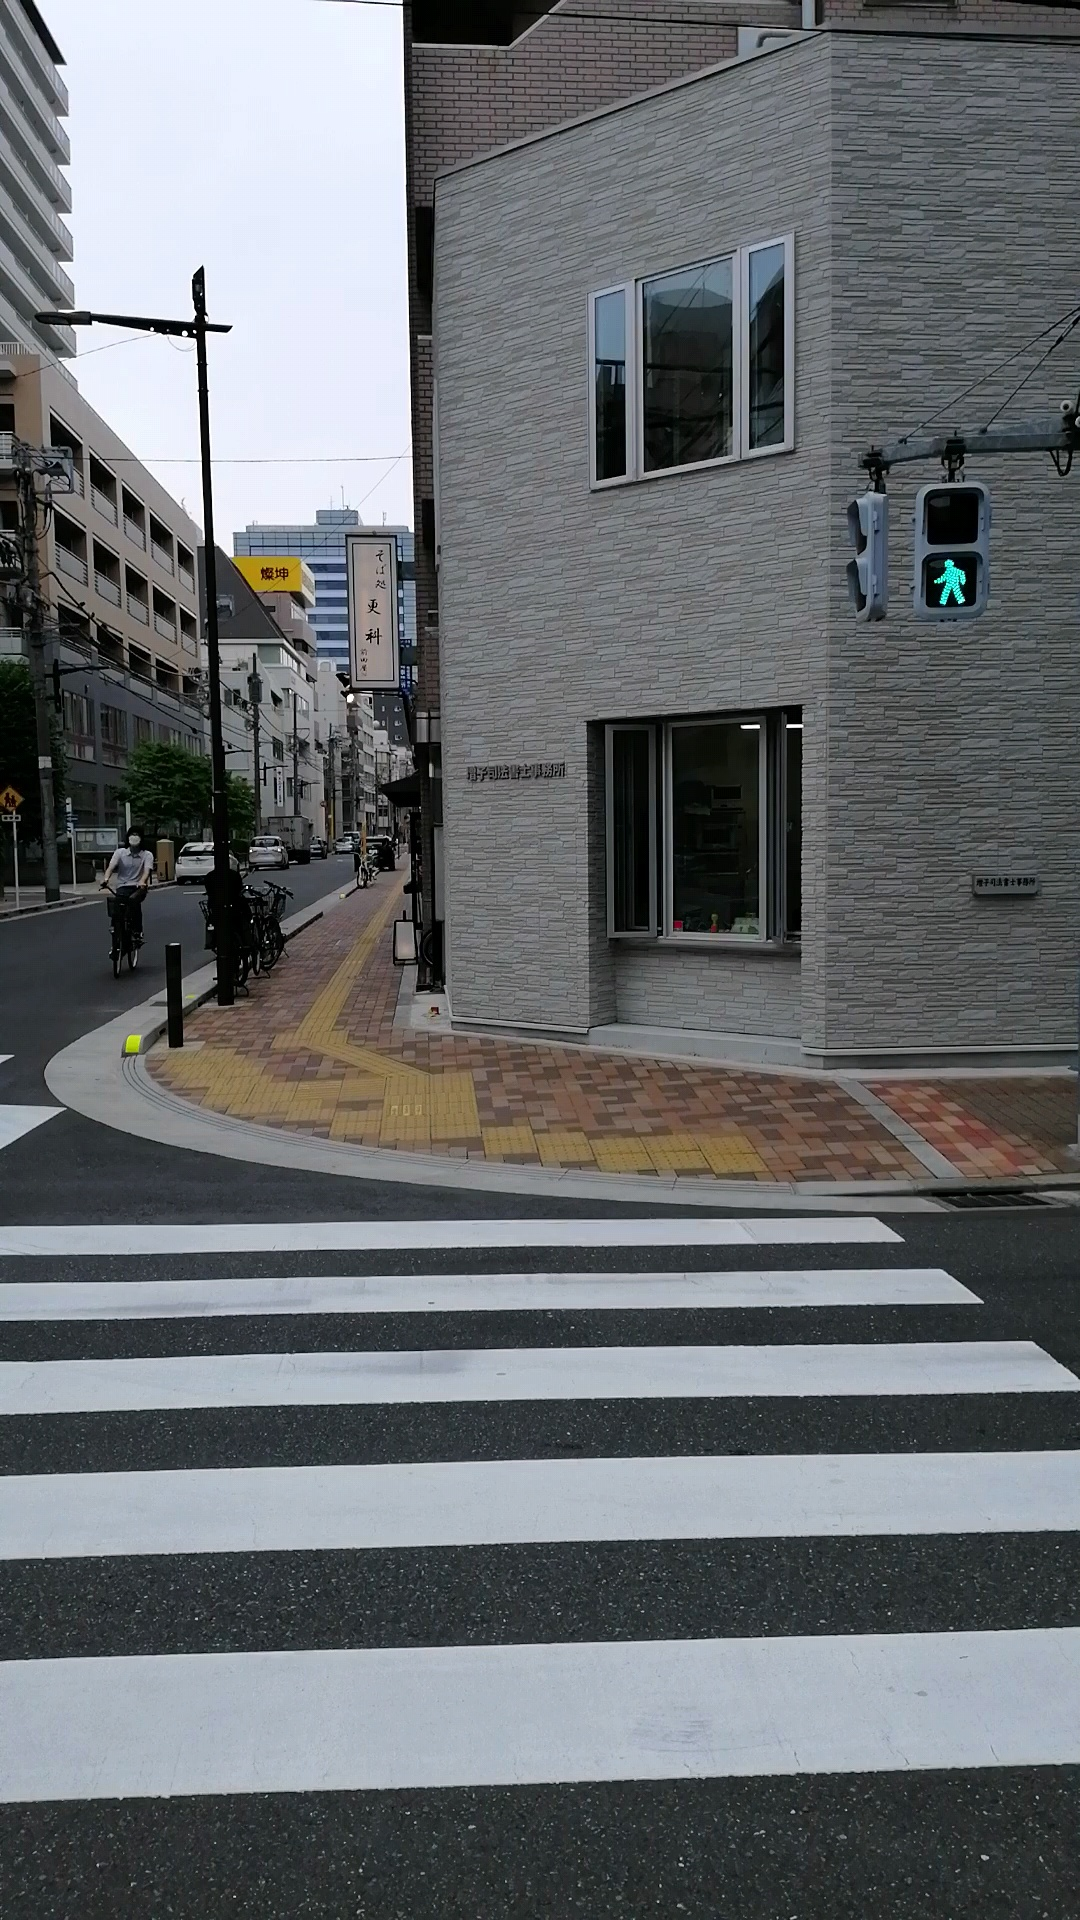green: (914, 483, 990, 620)
